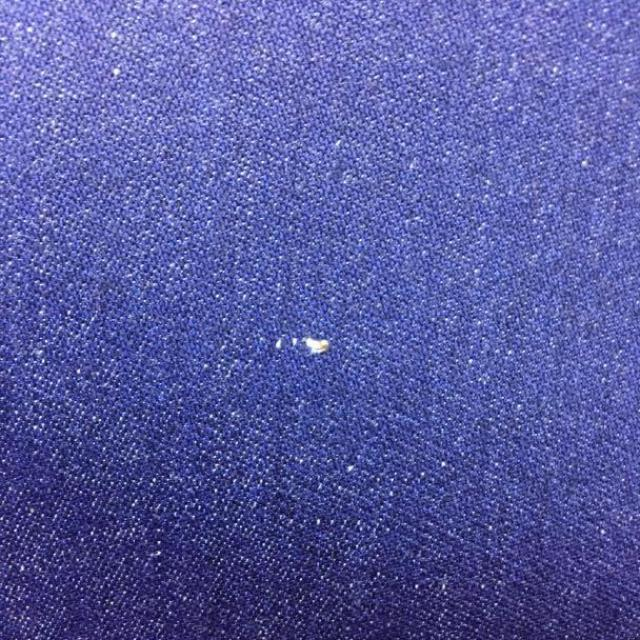Knot: (275, 337, 332, 355)
